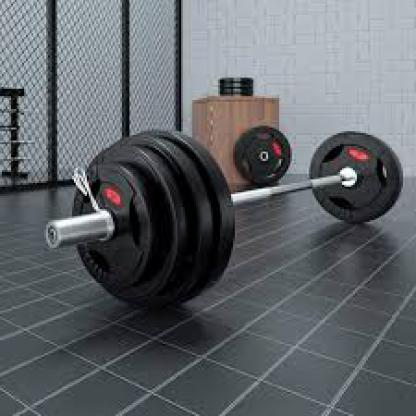barbell: (42, 126, 407, 312)
